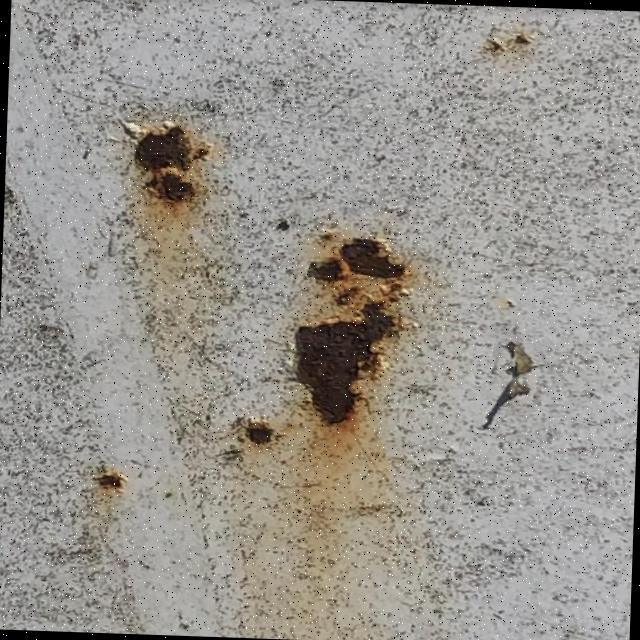Corrosion: (288, 226, 418, 427), (117, 115, 214, 206), (92, 466, 128, 491)
